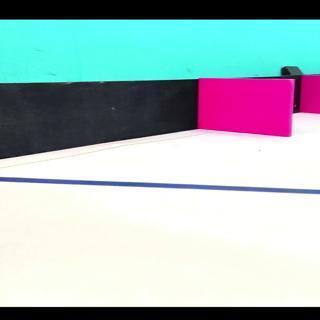xparking: (205, 84, 290, 136), (306, 82, 318, 114)
